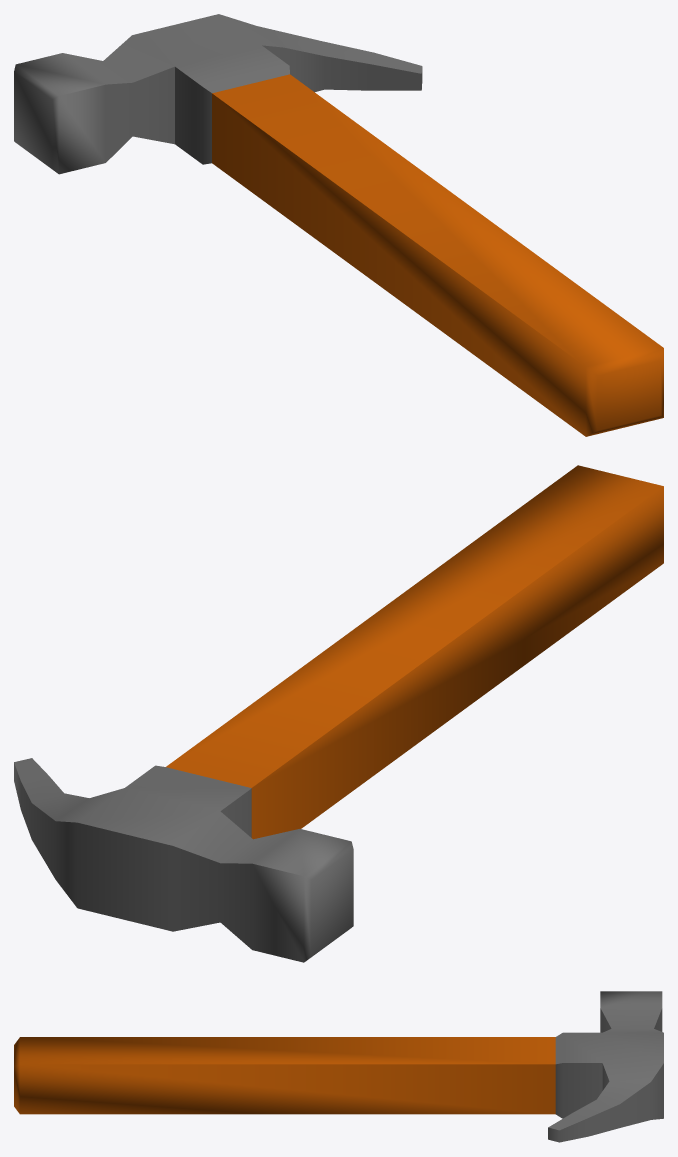
File: Hammer.fbx
3 renders of one model, top to bottom at view 1: azimuth 30°, elevation 25°; view 2: azimuth 150°, elevation 25°; view 3: azimuth 270°, elevation 25°, orthographic. The views are drawn at different scales.
Visible parts, largest first — view 1: Hammer; view 2: Hammer; view 3: Hammer.
Part boxes in pixels (x1,y1,x2,y2): Hammer: (14, 14, 663, 436); Hammer: (14, 465, 663, 962); Hammer: (14, 991, 663, 1142).
Size of the model in its own units: 917 by 203 by 2126.
1 material, 1 textured.
